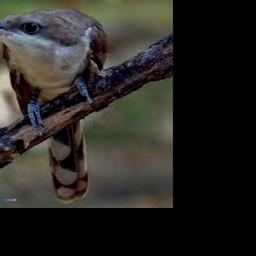Cuckoo: (0, 7, 109, 200)
